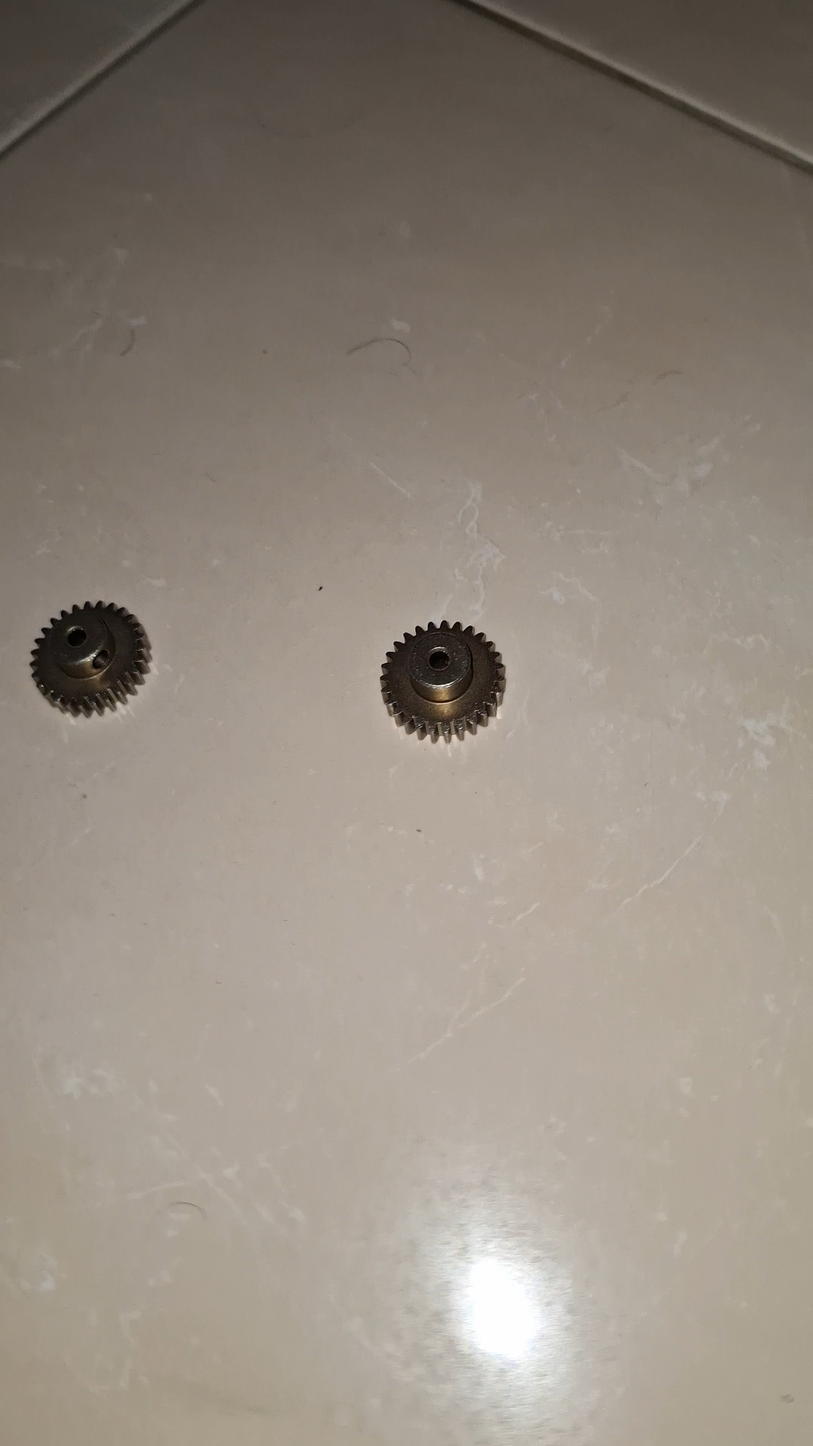spur gear: (378, 629, 500, 746), (30, 608, 148, 720)
